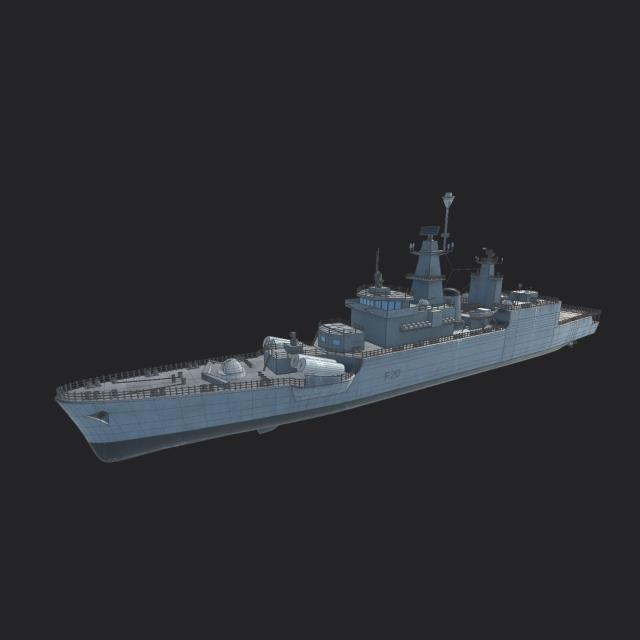Frigate-Godavari-Class-IND: (58, 186, 606, 470)
